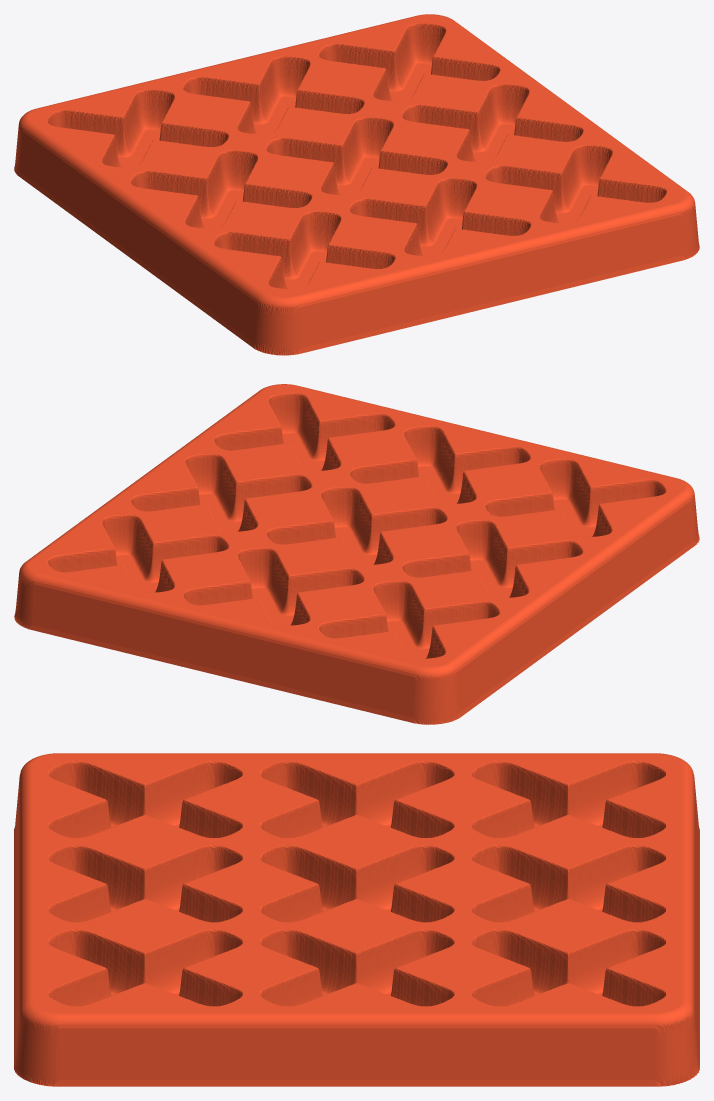
Rendered from mold.glb.
3 views of the same model, one above another, from view 1: azimuth 30°, elevation 25°; view 2: azimuth 150°, elevation 25°; view 3: azimuth 270°, elevation 25° (orthographic). The views are drawn at different scales.
Parts seen in each view (by area): view 1: geometry_0; view 2: geometry_0; view 3: geometry_0.
Part boxes in pixels (box(x1,y1,x2,y2)): geometry_0: box(14, 14, 699, 355); geometry_0: box(14, 384, 699, 724); geometry_0: box(14, 753, 699, 1086).
Bounding box in the file's own units: 0.129 × 0.0145 × 0.1365.
